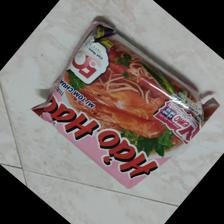Haohao: (31, 21, 221, 189)
